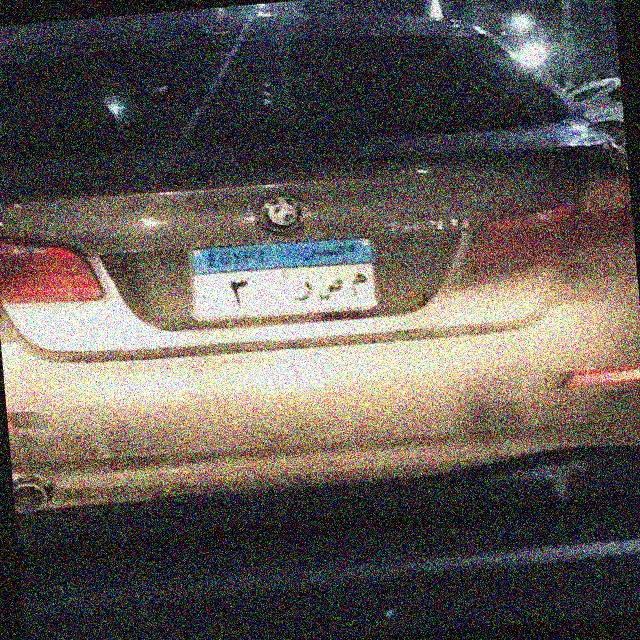License Plate: (184, 232, 381, 328)
